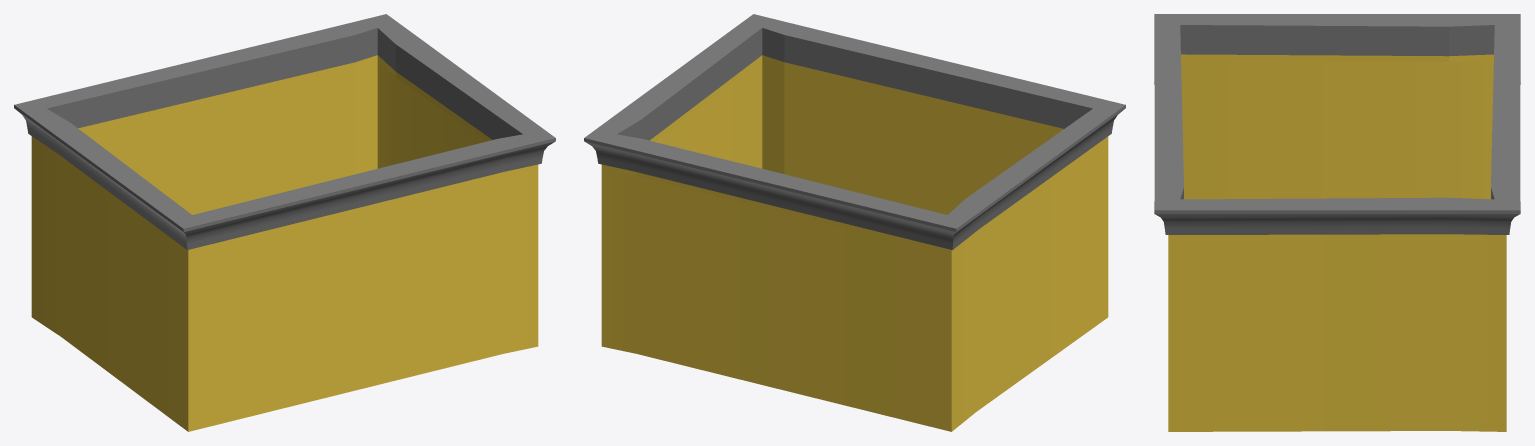
File: Building3_Top.fbx
3 views of the same model, side by side, from view 1: azimuth 30°, elevation 25°; view 2: azimuth 150°, elevation 25°; view 3: azimuth 270°, elevation 25° (orthographic). The views are drawn at different scales.
Parts seen in each view (by area): view 1: Building3_Top; view 2: Building3_Top; view 3: Building3_Top.
Boxes of the visible parts, <box> form: Building3_Top: <box>14,14,555,431</box>; Building3_Top: <box>584,14,1125,431</box>; Building3_Top: <box>1154,14,1520,431</box>.
Size of the model in its own units: 219 by 118 by 172.
